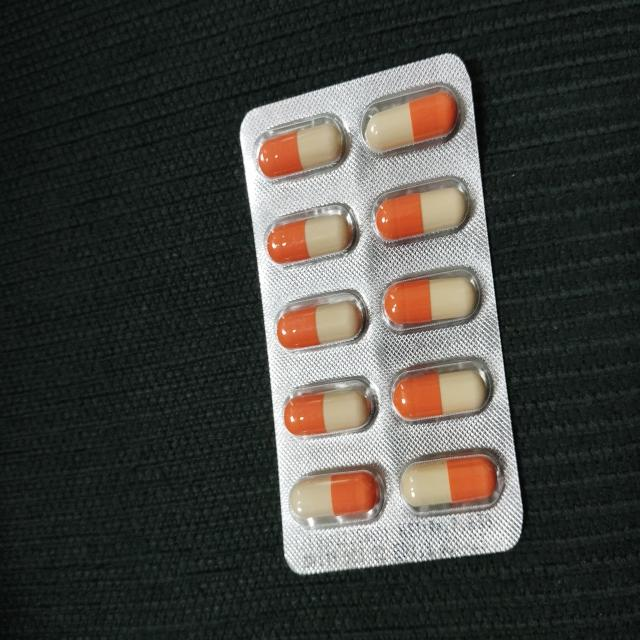B3: (242, 49, 526, 575)
